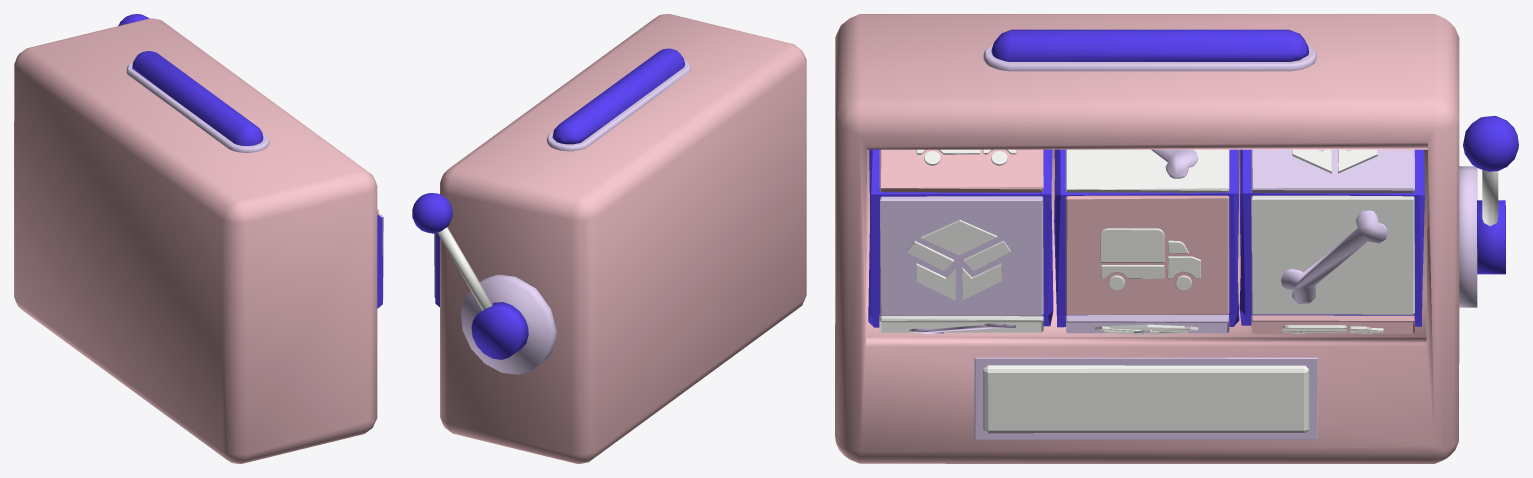
File: slot_machine_9.glb
3 renders of one model, left to right at view 1: azimuth 30°, elevation 25°; view 2: azimuth 150°, elevation 25°; view 3: azimuth 270°, elevation 25°, orthographic. The views are drawn at different scales.
Visible parts, largest first — view 1: boite, gyro, gyro base, roue L; view 2: boite, manivelle base_1, gyro, manivelle base_2, gyro base, manivelle boule, manivelle poignée; view 3: boite, résultat, roue L_blanc, roue M_rose.001, roue L_lilas, gyro, résultat base, roue L_rose.001, roue M_blanc.001, roue R_lilas, roue R, roue L (+17 smaller).
Part boxes in pixels (x1,y1,x2,y2): boite: (14,18,377,463); gyro: (132,51,263,145); gyro base: (126,62,269,152); roue L: (377,214,382,308); boite: (440,14,806,463); manivelle base_1: (461,274,556,374); gyro: (552,48,684,144); manivelle base_2: (471,302,528,359); gyro base: (546,60,690,151); manivelle boule: (412,193,452,233); manivelle poignée: (437,227,492,310); boite: (835,14,1459,463); résultat: (983,365,1309,433); roue L_blanc: (1251,195,1414,314); roue M_rose.001: (1065,195,1229,314); roue L_lilas: (880,196,1043,316); gyro: (991,29,1308,61); résultat base: (974,357,1318,439); roue L_rose.001: (879,149,1043,192); roue M_blanc.001: (1065,149,1229,192); roue R_lilas: (1251,149,1414,193); roue R: (1239,149,1424,326); roue L: (868,149,1053,327).
Size of what is drawn, in the model's own units: 2.01 by 3.18 by 5.02.
